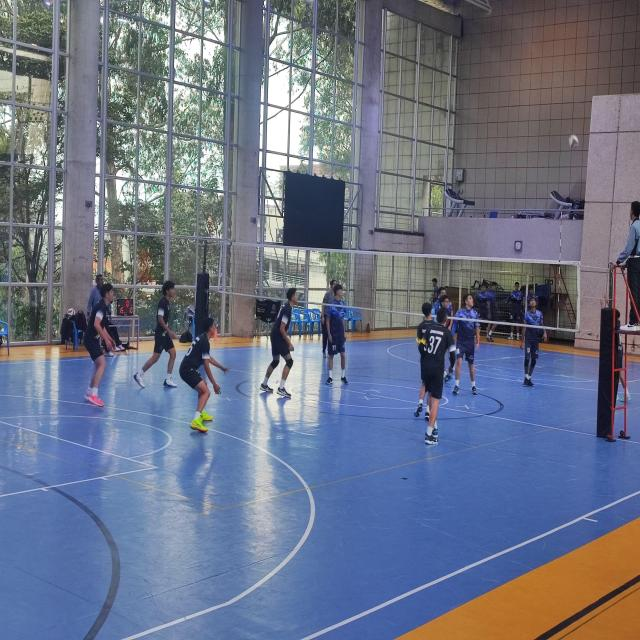volleyball: (569, 134, 579, 148)
